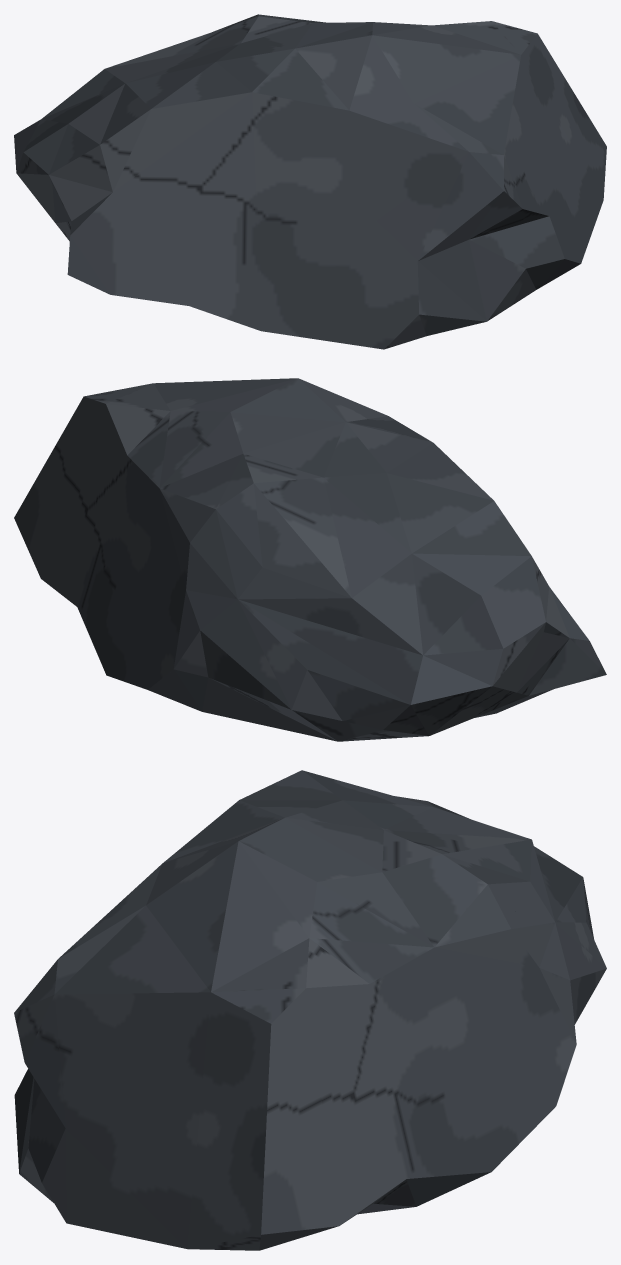
The model's file is rock_break3_v1.fbx.
3 views of the same model, one above another, from view 1: azimuth 30°, elevation 25°; view 2: azimuth 150°, elevation 25°; view 3: azimuth 270°, elevation 25° (orthographic). The views are drawn at different scales.
Visible parts, largest first — view 1: rock_break3_v1_lod0, rock_break3_v1_p5, rock_break3_v1_p2, rock_break3_v1_p4, rock_break3_v1_p3, rock_break3_v1_p0, rock_break3_v1_p1; view 2: rock_break3_v1_lod0, rock_break3_v1_p0, rock_break3_v1_p6, rock_break3_v1_p3, rock_break3_v1_p4, rock_break3_v1_p5; view 3: rock_break3_v1_lod0, rock_break3_v1_p6, rock_break3_v1_p3, rock_break3_v1_p0, rock_break3_v1_p5.
Boxes of the visible parts, box(x1,y1,x2,y2) form: rock_break3_v1_lod0: box(14, 14, 606, 349); rock_break3_v1_p5: box(194, 71, 527, 227); rock_break3_v1_p2: box(261, 195, 408, 349); rock_break3_v1_p4: box(51, 150, 275, 333); rock_break3_v1_p3: box(273, 22, 520, 113); rock_break3_v1_p0: box(15, 15, 294, 213); rock_break3_v1_p1: box(376, 210, 546, 338); rock_break3_v1_lod0: box(14, 378, 606, 741); rock_break3_v1_p0: box(194, 445, 548, 736); rock_break3_v1_p6: box(77, 501, 346, 740); rock_break3_v1_p3: box(127, 379, 394, 505); rock_break3_v1_p4: box(504, 563, 569, 708); rock_break3_v1_p5: box(341, 396, 430, 441); rock_break3_v1_lod0: box(14, 770, 606, 1250); rock_break3_v1_p6: box(361, 910, 596, 1212); rock_break3_v1_p3: box(119, 808, 456, 1250); rock_break3_v1_p0: box(259, 771, 593, 938); rock_break3_v1_p5: box(18, 800, 258, 1008).
Size of what is drawn, in the model's own units: 152 by 64.99 by 110.
